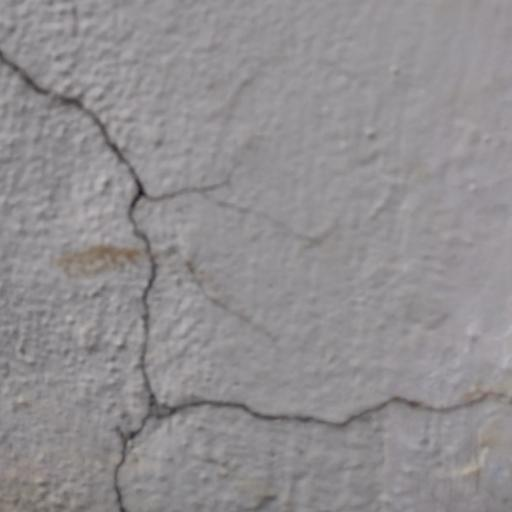minor_crack: (0, 27, 512, 512)
